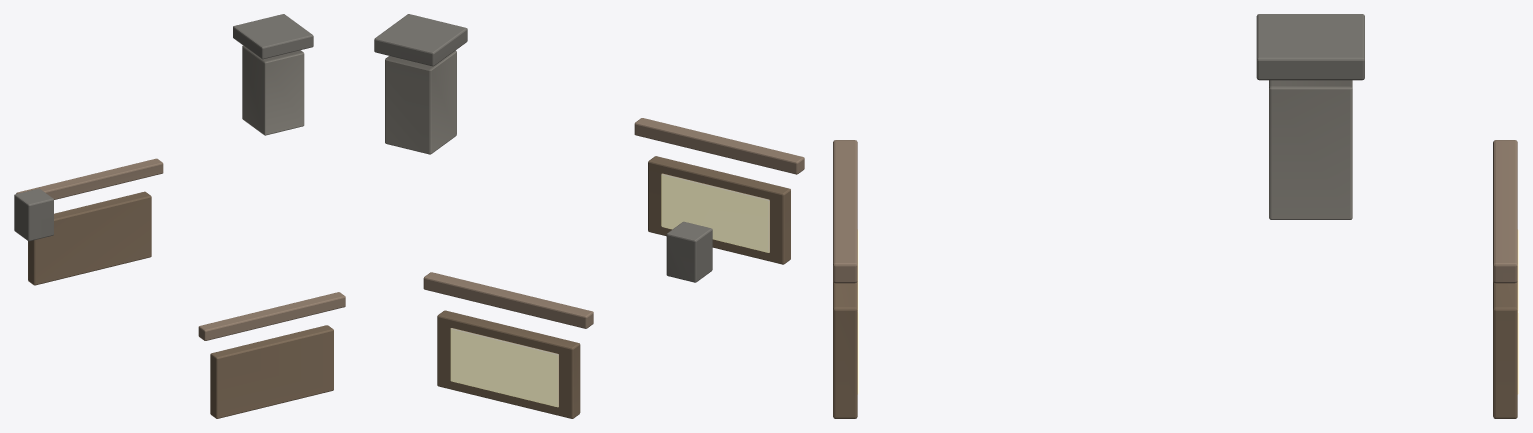
File: farmhouse_l1.glb
3 views of the same model, side by side, from view 1: azimuth 30°, elevation 25°; view 2: azimuth 150°, elevation 25°; view 3: azimuth 270°, elevation 25° (orthographic). The views are drawn at different scales.
Visible parts, largest first — view 1: dormer_frame; view 2: dormer_frame; view 3: dormer_frame.
Boxes of the visible parts, x1,y1,x2,y2 form: dormer_frame: (14, 14, 345, 418); dormer_frame: (374, 14, 804, 418); dormer_frame: (833, 14, 1518, 418).
Size of the model in its own units: 2.33 by 2 by 2.79.
